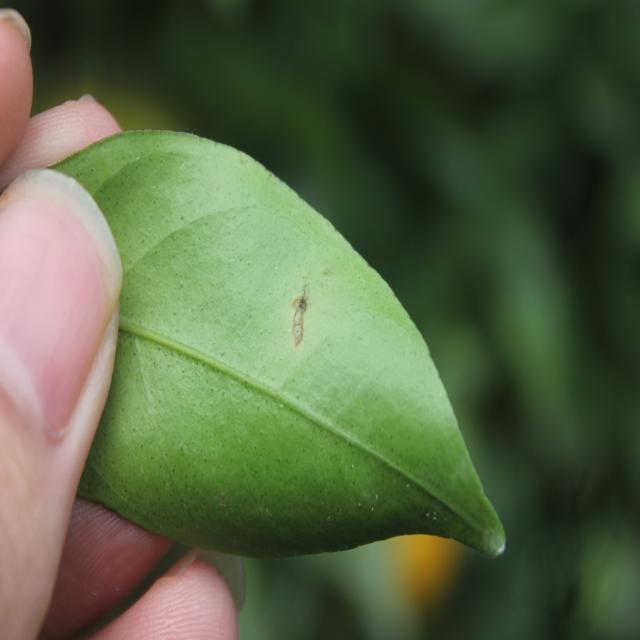canker: (259, 258, 342, 371)
